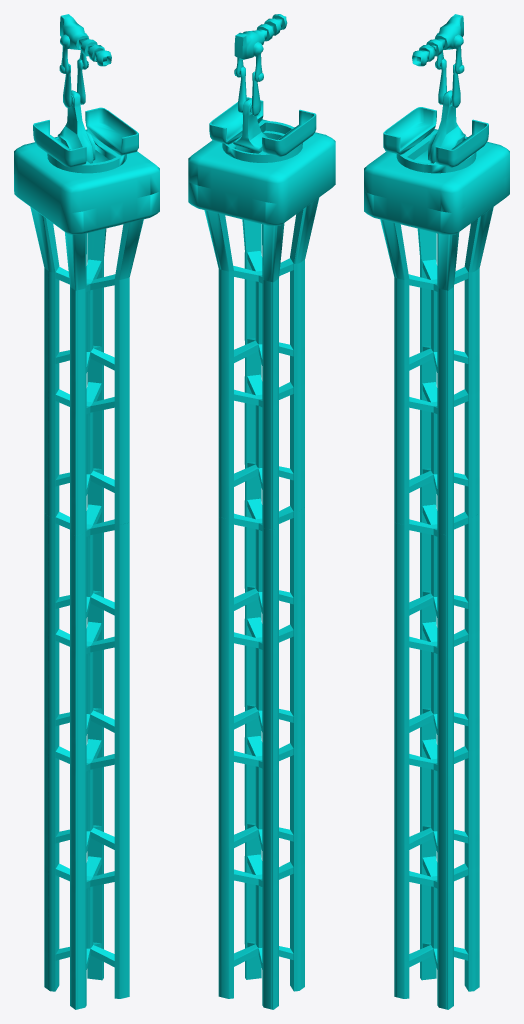
File: gauss.dae
3 views of the same model, side by side, from view 1: azimuth 30°, elevation 25°; view 2: azimuth 150°, elevation 25°; view 3: azimuth 330°, elevation 25° (orthographic).
Visible parts, largest first — view 1: Pillar2, Pillar1, Pillar6, Pillar3, Pillar5, Pillar4, Legs, Concrete, lidLeft, Wheel, lidRight, Belt (+3 smaller); view 2: Pillar2, Pillar1, Pillar6, Pillar3, Pillar4, Pillar5, Legs, Concrete, lidRight, lidLeft, Belt, Wheel (+3 smaller); view 3: Pillar2, Pillar1, Pillar6, Pillar3, Pillar4, Pillar5, Legs, Concrete, lidRight, Wheel, lidLeft, Belt (+3 smaller).
Boxes of the visible parts, box(x1,y1,x2,y2) form: Pillar2: box(44, 381, 129, 535); Pillar1: box(44, 259, 129, 413); Pillar6: box(44, 856, 129, 1009); Pillar3: box(44, 504, 129, 655); Pillar5: box(44, 738, 129, 889); Pillar4: box(44, 621, 129, 772); Legs: box(14, 174, 159, 290); Concrete: box(14, 129, 159, 212); lidLeft: box(85, 107, 138, 155); Wheel: box(57, 90, 95, 163); lidRight: box(33, 120, 86, 167); Belt: box(47, 131, 126, 173); Pillar2: box(218, 374, 304, 529); Pillar1: box(218, 250, 304, 406); Pillar6: box(218, 854, 304, 1009); Pillar3: box(218, 498, 304, 650); Pillar4: box(218, 617, 304, 769); Pillar5: box(218, 736, 304, 888); Legs: box(188, 165, 335, 282); Concrete: box(188, 119, 335, 203); lidRight: box(262, 109, 316, 156); lidLeft: box(209, 97, 263, 144); Belt: box(222, 121, 302, 162); Wheel: box(233, 98, 267, 153); Pillar2: box(394, 381, 479, 535); Pillar1: box(394, 259, 479, 413); Pillar6: box(394, 856, 479, 1009); Pillar3: box(394, 504, 479, 655); Pillar4: box(394, 621, 479, 772); Pillar5: box(394, 738, 479, 889); Legs: box(364, 174, 509, 290); Concrete: box(364, 129, 509, 212); lidRight: box(383, 107, 436, 154); Wheel: box(428, 90, 465, 163); lidLeft: box(435, 119, 488, 167); Belt: box(396, 131, 476, 173).
Size of the model in its own units: 38.12 by 41.53 by 369.
